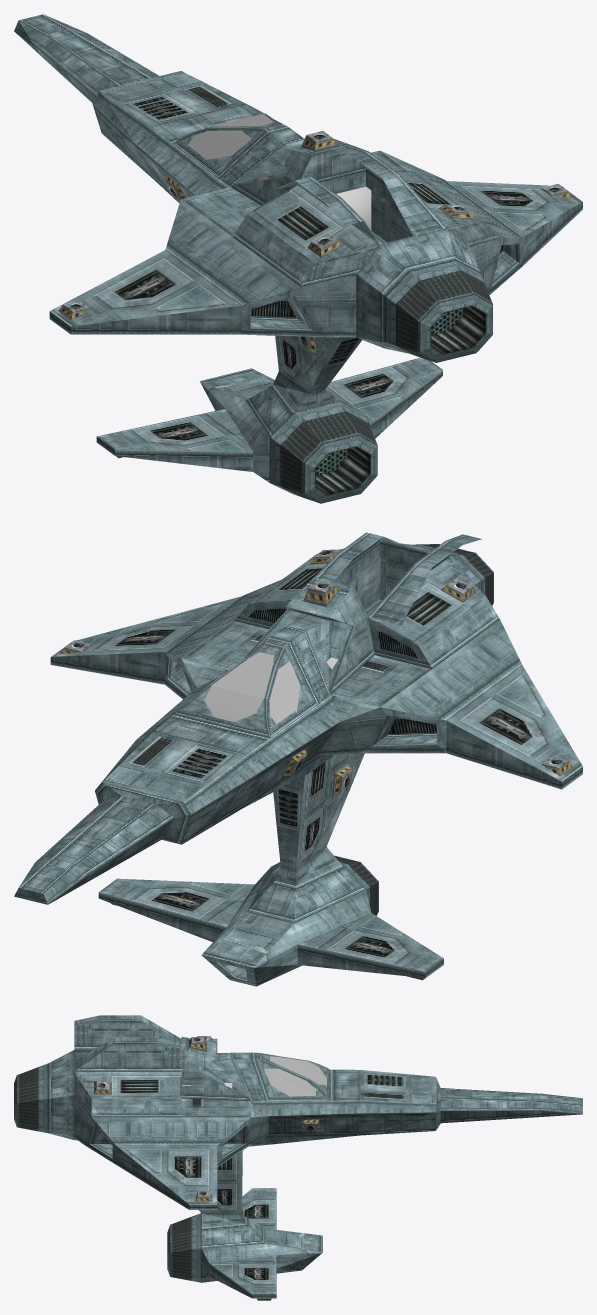
File: BW_ELITE.fbx
The picture shows the model from 3 angles, top to bottom: view 1: azimuth 30°, elevation 25°; view 2: azimuth 150°, elevation 25°; view 3: azimuth 270°, elevation 25°; orthographic projection. The views are drawn at different scales.
Visible parts, largest first — view 1: Group1, Group8, Group13, Group10, Group2, Group6, Group19, Group16, Group22, Group5, Group18, Group3 (+5 smaller); view 2: Group1, Group8, Group2, Group19, Group16, Group6, Group18, Group3, Group21, Group5, Group4, Group22 (+2 smaller); view 3: Group1, Group19, Group22, Group21, Group16, Group10, Group13, Group2, Group18, Group3, Group6, Group5.
Boxes of the visible parts, x1,y1,x2,y2 form: Group1: [14, 14, 523, 482]; Group8: [49, 250, 241, 334]; Group13: [269, 400, 377, 503]; Group10: [385, 260, 492, 362]; Group2: [231, 139, 519, 330]; Group6: [96, 409, 253, 471]; Group19: [448, 181, 582, 265]; Group16: [325, 357, 442, 438]; Group22: [332, 145, 446, 235]; Group5: [164, 131, 474, 353]; Group18: [188, 114, 272, 159]; Group3: [173, 113, 287, 177]; Group1: [14, 543, 522, 986]; Group8: [446, 665, 582, 789]; Group2: [167, 541, 436, 980]; Group19: [50, 596, 240, 684]; Group16: [98, 878, 254, 941]; Group6: [297, 913, 443, 978]; Group18: [204, 652, 300, 724]; Group3: [174, 638, 317, 737]; Group21: [368, 534, 481, 625]; Group5: [281, 549, 476, 796]; Group4: [248, 608, 436, 734]; Group22: [314, 532, 413, 581]; Group1: [48, 1036, 582, 1282]; Group19: [116, 1145, 217, 1209]; Group22: [74, 1037, 181, 1071]; Group21: [74, 1015, 181, 1049]; Group16: [209, 1255, 276, 1298]; Group10: [14, 1063, 48, 1132]; Group13: [167, 1213, 201, 1282]; Group2: [74, 1050, 250, 1158]; Group18: [264, 1056, 326, 1096]; Group3: [254, 1052, 329, 1101]; Group6: [242, 1188, 276, 1229]; Group5: [94, 1037, 319, 1131].
Bounding box in the file's own units: 683 × 456 × 989.
10 materials, 8 textured.
